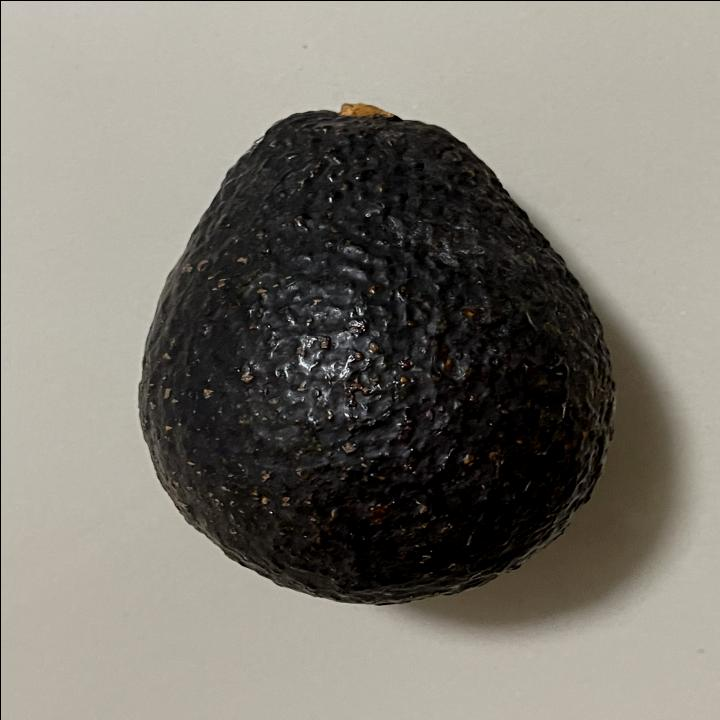Level3: (129, 93, 624, 613)
